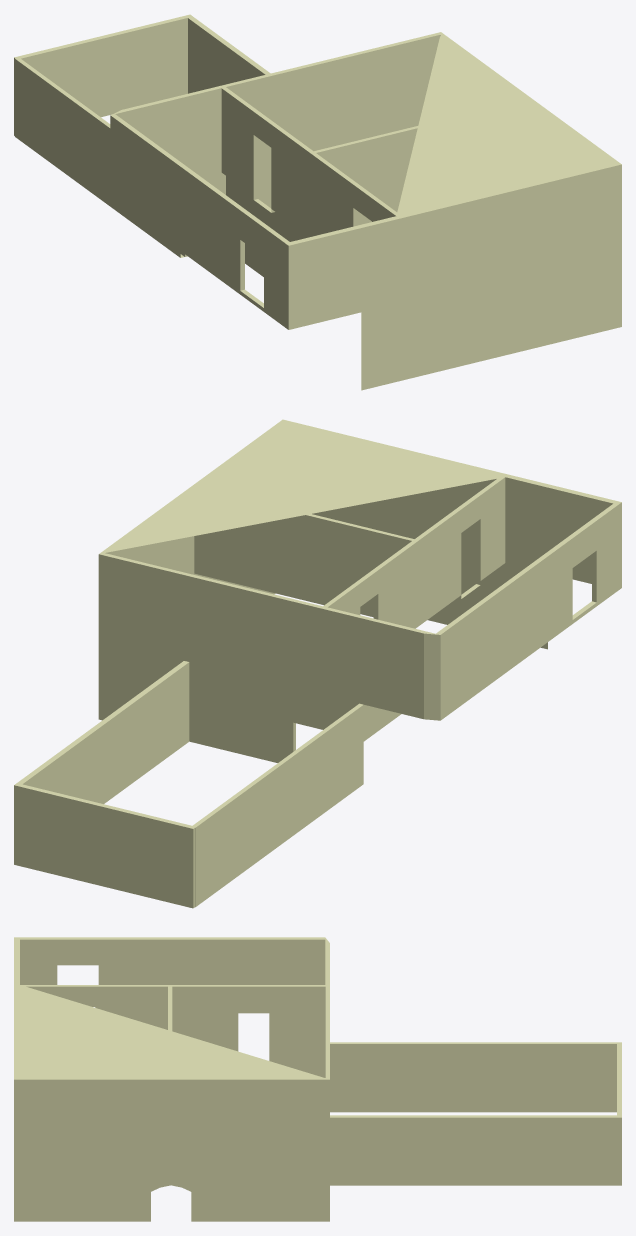
Rendered from walls1.fbx.
3 renders of one model, top to bottom at view 1: azimuth 30°, elevation 25°; view 2: azimuth 150°, elevation 25°; view 3: azimuth 270°, elevation 25°, orthographic. The views are drawn at different scales.
Visible parts, largest first — view 1: Cube.015; view 2: Cube.015; view 3: Cube.015.
Part boxes in pixels (x1,y1,x2,y2): Cube.015: (14,14,621,390); Cube.015: (14,419,621,908); Cube.015: (14,937,621,1221).
Size of the model in its own units: 7057 by 3287 by 12759.
